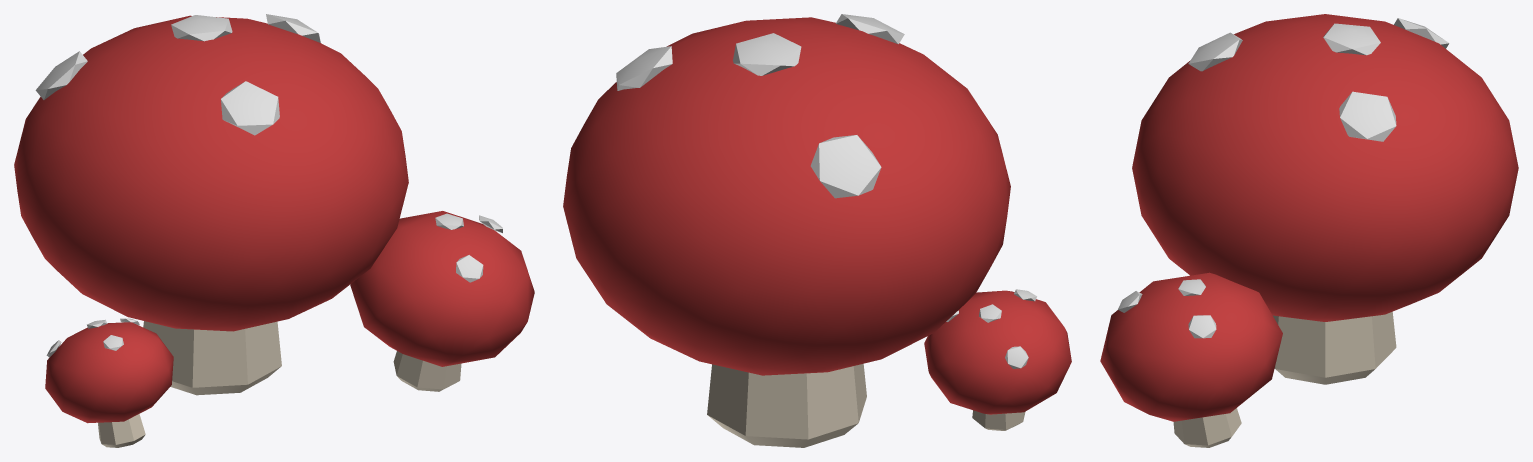
The model's file is p_mushroom_1.glb.
3 views of the same model, side by side, from view 1: azimuth 30°, elevation 25°; view 2: azimuth 150°, elevation 25°; view 3: azimuth 270°, elevation 25° (orthographic). The views are drawn at different scales.
Visible parts, largest first — view 1: body; view 2: body; view 3: body.
Boxes of the visible parts, x1,y1,x2,y2 form: body: (14,14,534,447); body: (563,14,1071,447); body: (1100,14,1518,447).
Bounding box in the file's own units: 1.28 × 0.9604 × 1.08.
